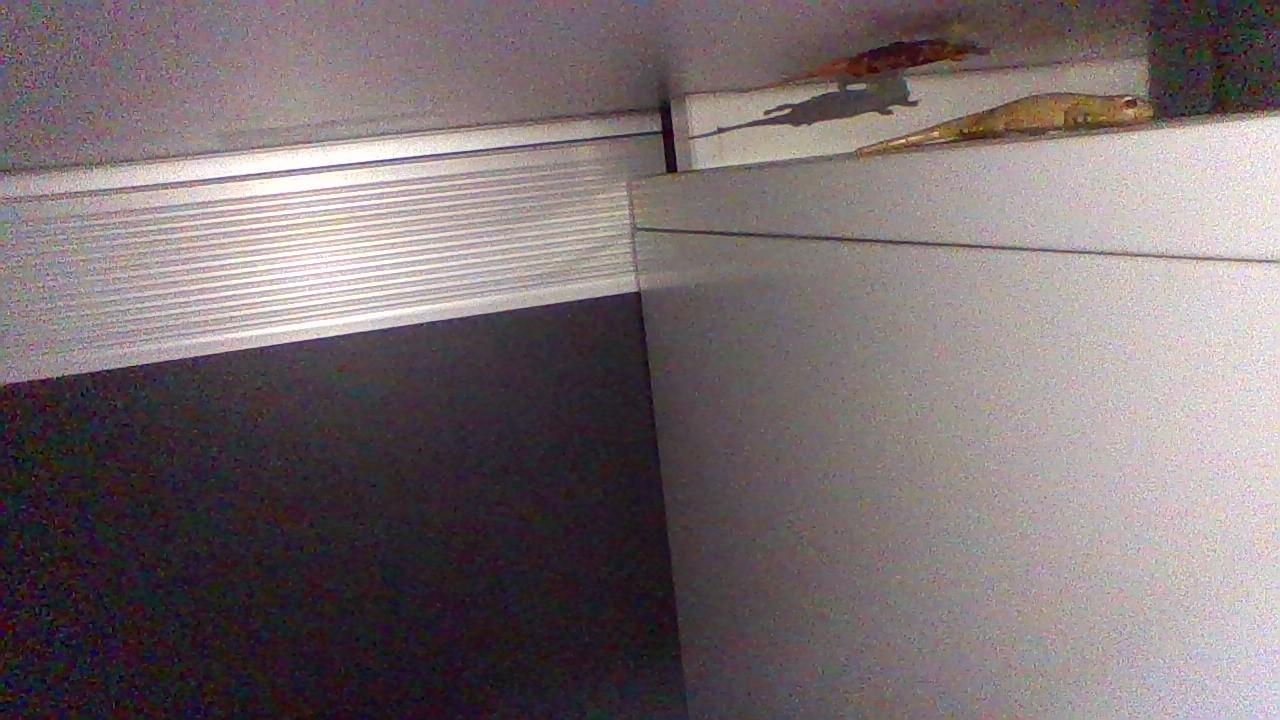cockroach: (749, 36, 1000, 75)
lizard: (850, 92, 1158, 148)
